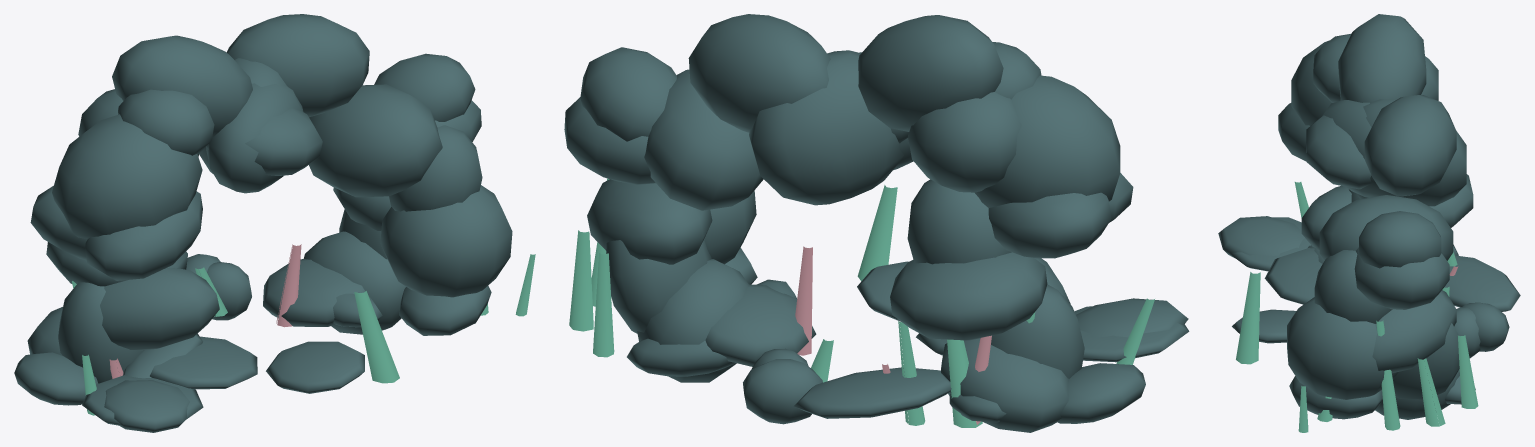
File: arrecife_pasaje_mediano.glb
The picture shows the model from 3 angles, left to right: view 1: azimuth 30°, elevation 25°; view 2: azimuth 150°, elevation 25°; view 3: azimuth 270°, elevation 25°; orthographic projection. The views are drawn at different scales.
Parts seen in each view (by area): view 1: reef_passage_medium; view 2: reef_passage_medium; view 3: reef_passage_medium.
Boxes of the visible parts, bbox=[...] form: reef_passage_medium: bbox=[14, 14, 535, 432]; reef_passage_medium: bbox=[564, 14, 1189, 432]; reef_passage_medium: bbox=[1218, 14, 1520, 432].
Size of the model in its own units: 4.12 by 2.87 by 2.56.
